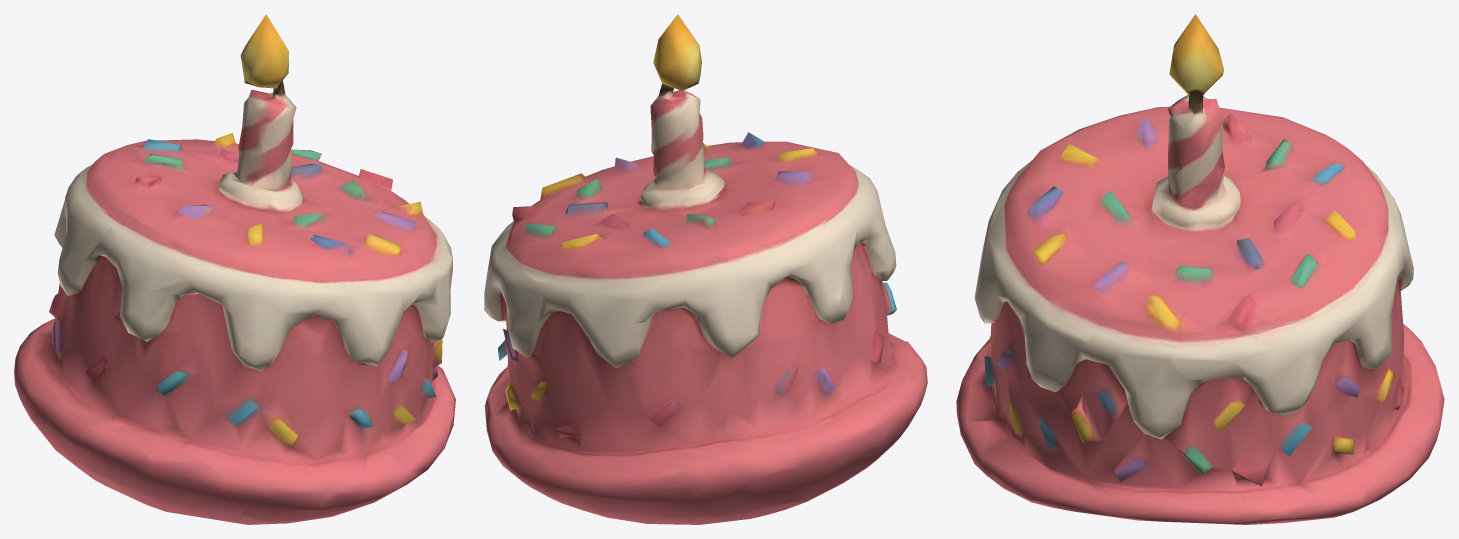
Rendered from hat-cake.glb.
3 views of the same model, side by side, from view 1: azimuth 30°, elevation 25°; view 2: azimuth 150°, elevation 25°; view 3: azimuth 270°, elevation 25° (orthographic). The views are drawn at different scales.
Visible parts, largest first — view 1: tripo_node_ed36e55c-99ab-4de6-8fb0-d3631b988edd; view 2: tripo_node_ed36e55c-99ab-4de6-8fb0-d3631b988edd; view 3: tripo_node_ed36e55c-99ab-4de6-8fb0-d3631b988edd.
Boxes of the visible parts, bbox=[...] form: tripo_node_ed36e55c-99ab-4de6-8fb0-d3631b988edd: bbox=[14, 14, 455, 524]; tripo_node_ed36e55c-99ab-4de6-8fb0-d3631b988edd: bbox=[484, 14, 927, 524]; tripo_node_ed36e55c-99ab-4de6-8fb0-d3631b988edd: bbox=[956, 14, 1444, 524].
Bounding box in the file's own units: 0.8744 × 1 × 0.8995.
Materials: 1 (1 with a texture image).
